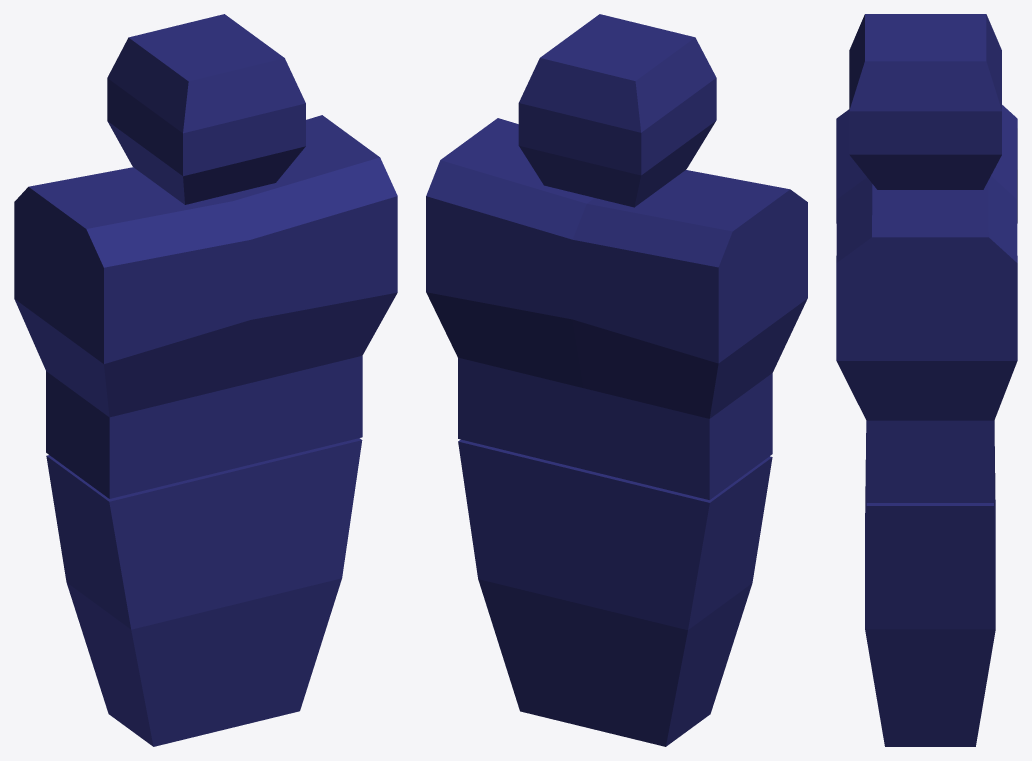
Rendered from Target_Blue.fbx.
3 renders of one model, left to right at view 1: azimuth 30°, elevation 25°; view 2: azimuth 150°, elevation 25°; view 3: azimuth 270°, elevation 25°, orthographic.
Visible parts, largest first — view 1: Cube.004, Cube.003, Cube.005; view 2: Cube.004, Cube.003, Cube.005; view 3: Cube.004, Cube.003, Cube.005.
Part boxes in pixels (left/top/right/bottom): Cube.004: left=14, top=115, right=397, bottom=498; Cube.003: left=46, top=438, right=362, bottom=746; Cube.005: left=107, top=14, right=305, bottom=204; Cube.004: left=426, top=118, right=807, bottom=499; Cube.003: left=458, top=439, right=772, bottom=746; Cube.005: left=518, top=14, right=716, bottom=207; Cube.004: left=836, top=105, right=1017, bottom=502; Cube.003: left=865, top=420, right=995, bottom=746; Cube.005: left=849, top=14, right=1001, bottom=189.
Bounding box in the file's own units: 175 × 380 × 92.66.
